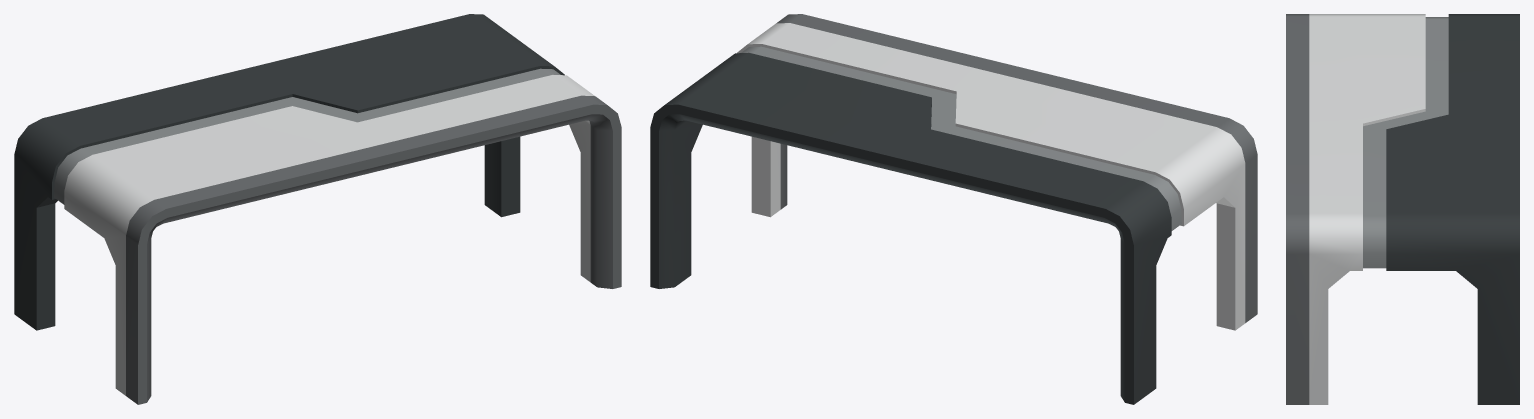
File: Desk_030.fbx
3 views of the same model, side by side, from view 1: azimuth 30°, elevation 25°; view 2: azimuth 150°, elevation 25°; view 3: azimuth 270°, elevation 25° (orthographic). The views are drawn at different scales.
Visible parts, largest first — view 1: Desk_030; view 2: Desk_030; view 3: Desk_030.
Part boxes in pixels (x1,y1,x2,y2): Desk_030: [14, 14, 621, 404]; Desk_030: [650, 14, 1257, 404]; Desk_030: [1286, 14, 1519, 404].
Size of the model in its own units: 235 by 104 by 87.75.
